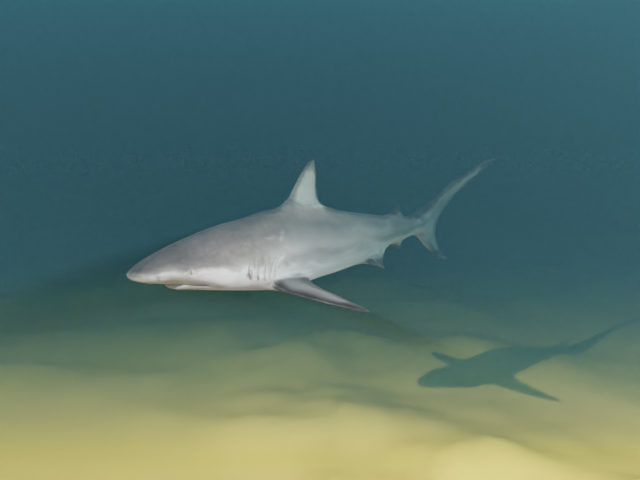Carribean Shark.001: (126, 158, 495, 312)
